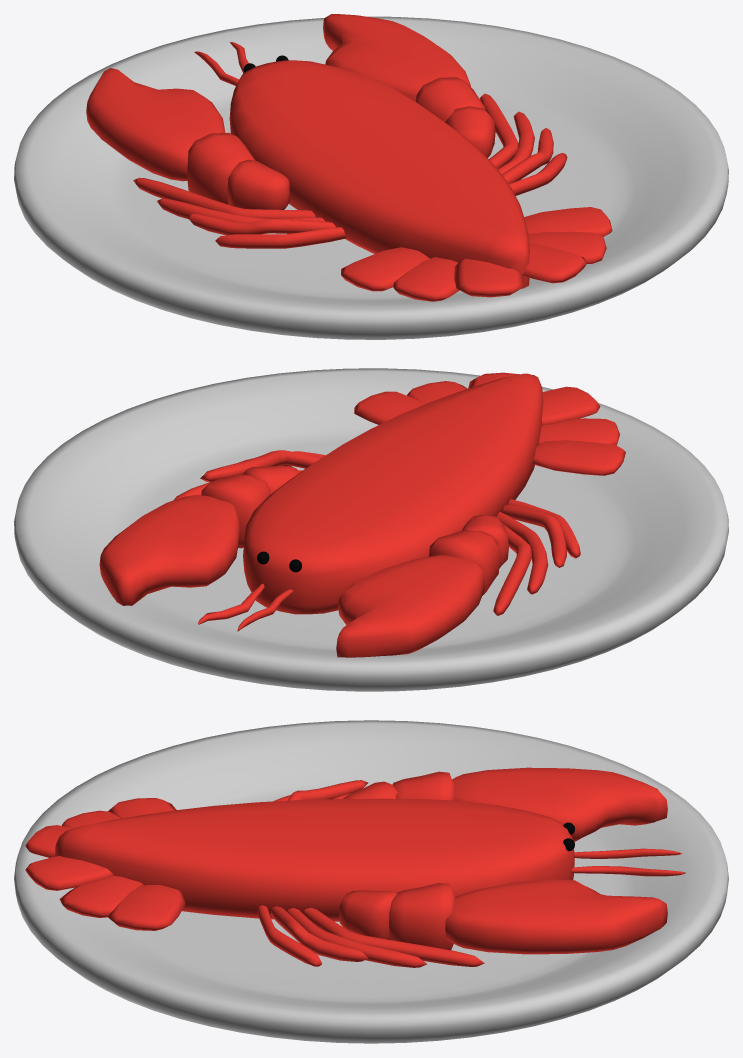
File: Lobster.fbx
3 renders of one model, top to bottom at view 1: azimuth 30°, elevation 25°; view 2: azimuth 150°, elevation 25°; view 3: azimuth 270°, elevation 25°, orthographic.
Visible parts, largest first — view 1: LasPlate, Cube, Cube.001, Cube.002, Cube.011, Cube.003, Cube.005, Cube.010, Cube.004, Cube.008, Cube.009, Cube.006 (+1 smaller); view 2: LasPlate, Cube, Cube.001, Cube.002, Cube.011, Cube.008, Cube.010, Cube.005, Cube.003, Cube.006, Cube.004, Cube.013 (+1 smaller); view 3: LasPlate, Cube, Cube.001, Cube.002, Cube.011, Cube.005, Cube.003, Cube.010, Cube.008, Cube.004, Cube.006, Cube.013 (+1 smaller).
Boxes of the visible parts, box(x1,y1,x2,y2) form: LasPlate: box(14, 16, 728, 339); Cube: box(229, 60, 529, 288); Cube.001: box(86, 14, 470, 181); Cube.002: box(187, 77, 485, 204); Cube.011: box(341, 207, 612, 291); Cube.003: box(227, 106, 495, 209); Cube.005: box(454, 243, 586, 297); Cube.010: box(393, 231, 606, 301); Cube.004: box(133, 93, 518, 218); Cube.008: box(187, 128, 553, 235); Cube.009: box(215, 153, 567, 248); Cube.006: box(157, 111, 534, 222); LasPlate: box(14, 368, 728, 691); Cube: box(243, 373, 543, 614); Cube.001: box(99, 495, 484, 657); Cube.002: box(201, 474, 499, 595); Cube.011: box(354, 391, 625, 475); Cube.008: box(200, 450, 566, 567); Cube.010: box(407, 381, 619, 445); Cube.005: box(468, 372, 600, 425); Cube.003: box(243, 465, 508, 568); Cube.006: box(174, 470, 548, 594); Cube.004: box(493, 523, 531, 615); Cube.013: box(198, 583, 293, 631); LasPlate: box(14, 720, 728, 1043); Cube: box(55, 798, 574, 921); Cube.001: box(445, 767, 667, 954); Cube.002: box(389, 771, 455, 950); Cube.011: box(107, 798, 185, 930); Cube.005: box(25, 825, 113, 890); Cube.003: box(339, 781, 397, 939); Cube.010: box(59, 810, 143, 917); Cube.008: box(270, 780, 368, 961); Cube.004: box(303, 907, 484, 966); Cube.006: box(287, 792, 426, 967); Cube.013: box(571, 848, 685, 876).
Size of the model in its own units: 66.8 by 12.36 by 66.8.
3 materials, 1 textured.
